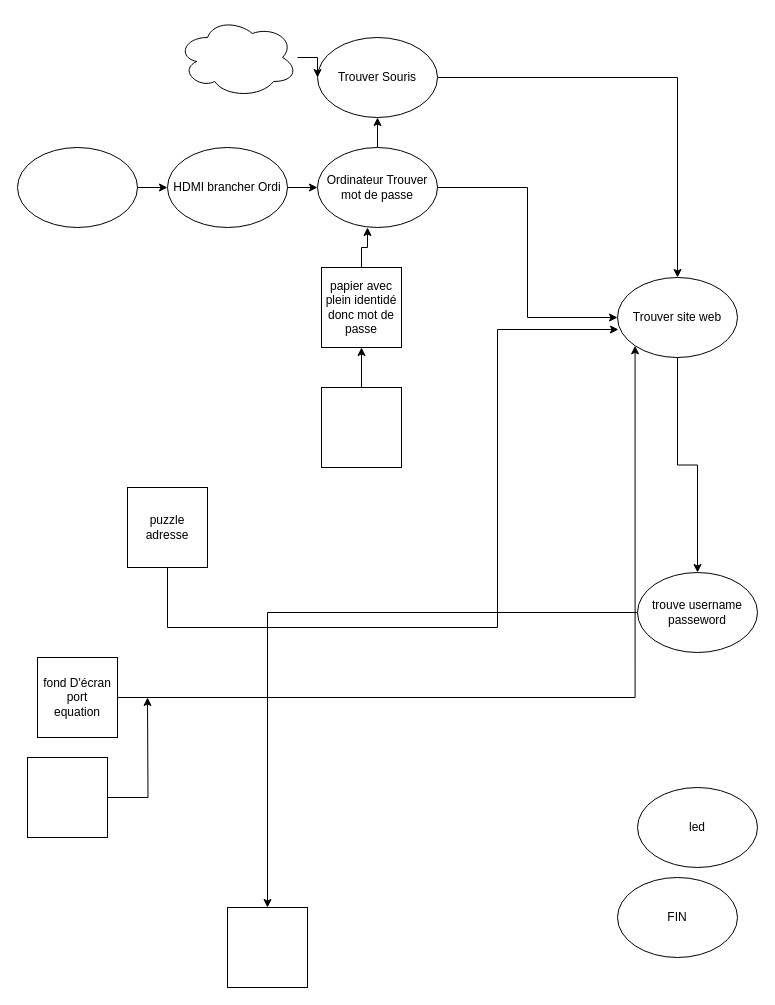
Some shapes in this 775 by 1005 pixel diagram are drawn without their labels. The centre of each missing label's shape, as x and y in pixels:
boiteBleu: [237,57]
calculatrice en ligne: [67,797]
charade sur site: [267,947]
Cheveux noir moustache 40 ans: [361,427]
DEBUT: [77,187]
